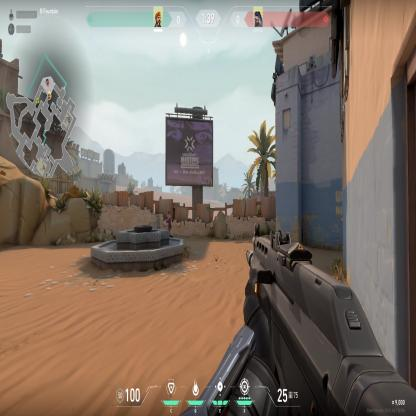enemy: (165, 210, 172, 233)
